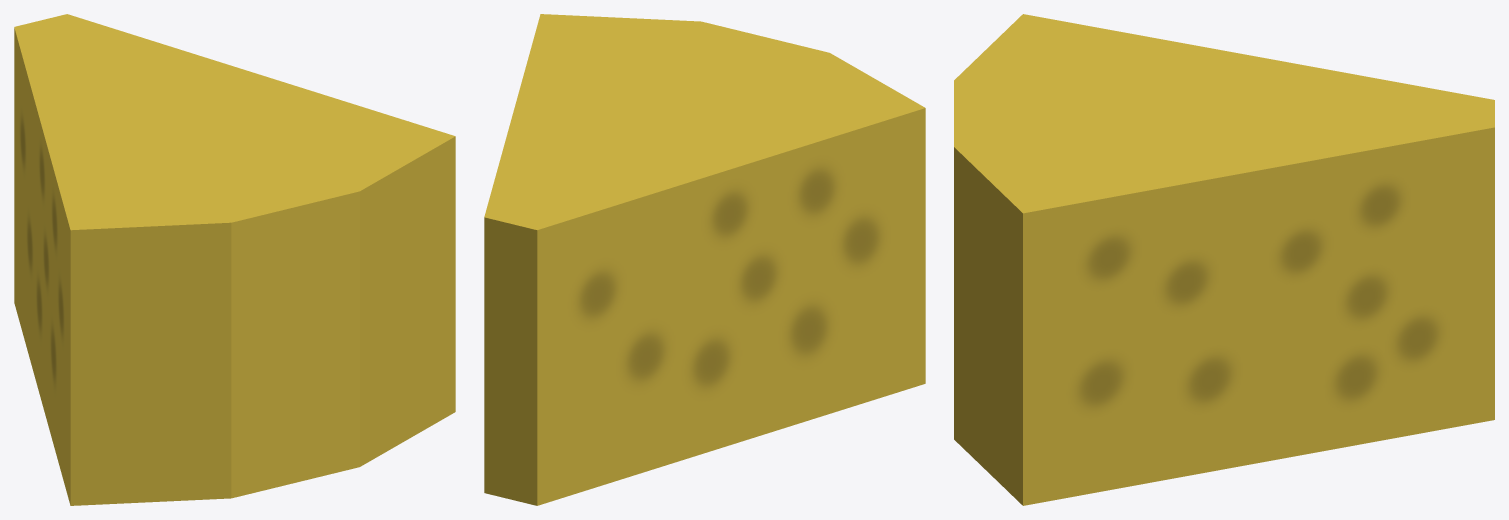
Rendered from cheese.fbx.
The picture shows the model from 3 angles, left to right: view 1: azimuth 30°, elevation 25°; view 2: azimuth 150°, elevation 25°; view 3: azimuth 270°, elevation 25°; orthographic projection. The views are drawn at different scales.
Parts seen in each view (by area): view 1: Cube.004; view 2: Cube.004; view 3: Cube.004.
Part boxes in pixels (left/top/right/bottom): Cube.004: left=14, top=14, right=455, bottom=505; Cube.004: left=484, top=14, right=925, bottom=505; Cube.004: left=954, top=14, right=1494, bottom=505.
Size of the model in its own units: 13.29 by 9.09 by 15.24.
Materials: 1 (1 with a texture image).
